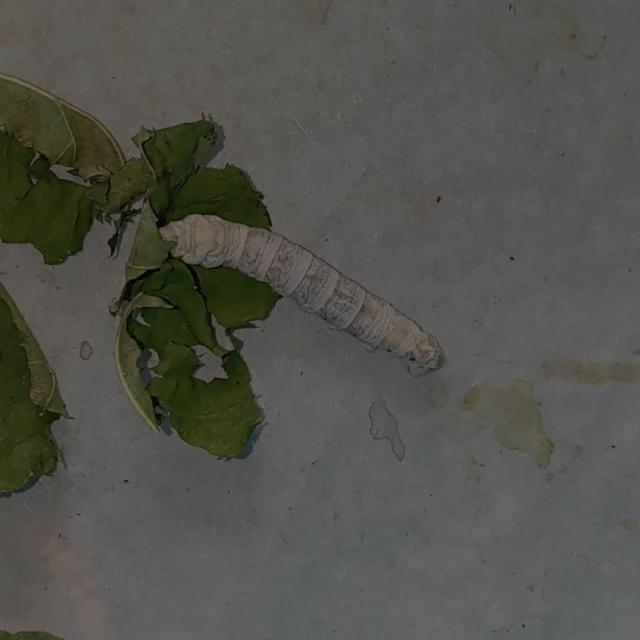Grasserie: (156, 198, 452, 395)
